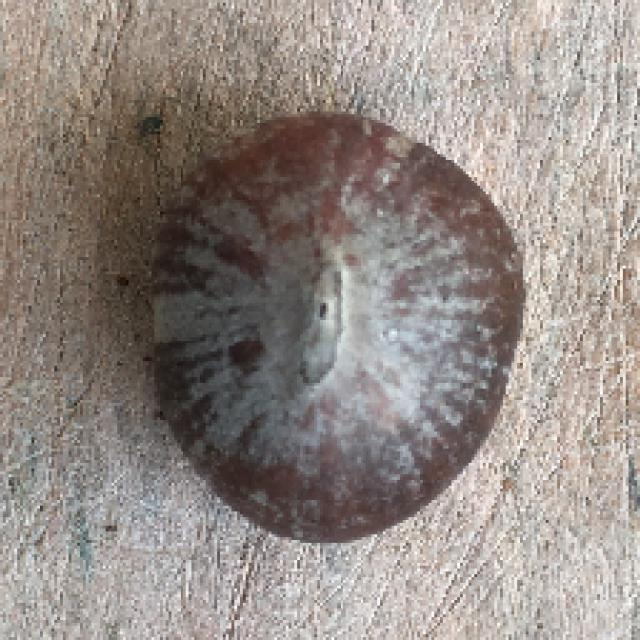damagedHazelnut: (154, 113, 528, 543)
